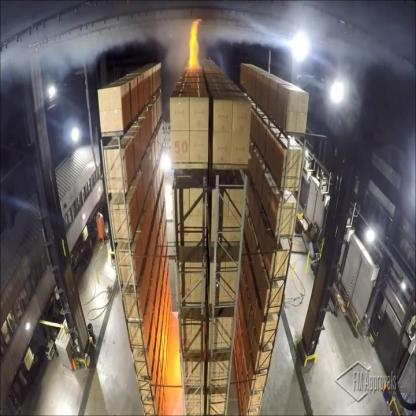fire: (186, 16, 206, 75)
